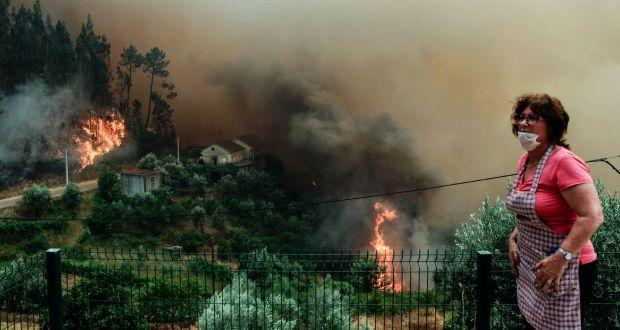Fire: (53, 105, 149, 174), (361, 201, 422, 295)
